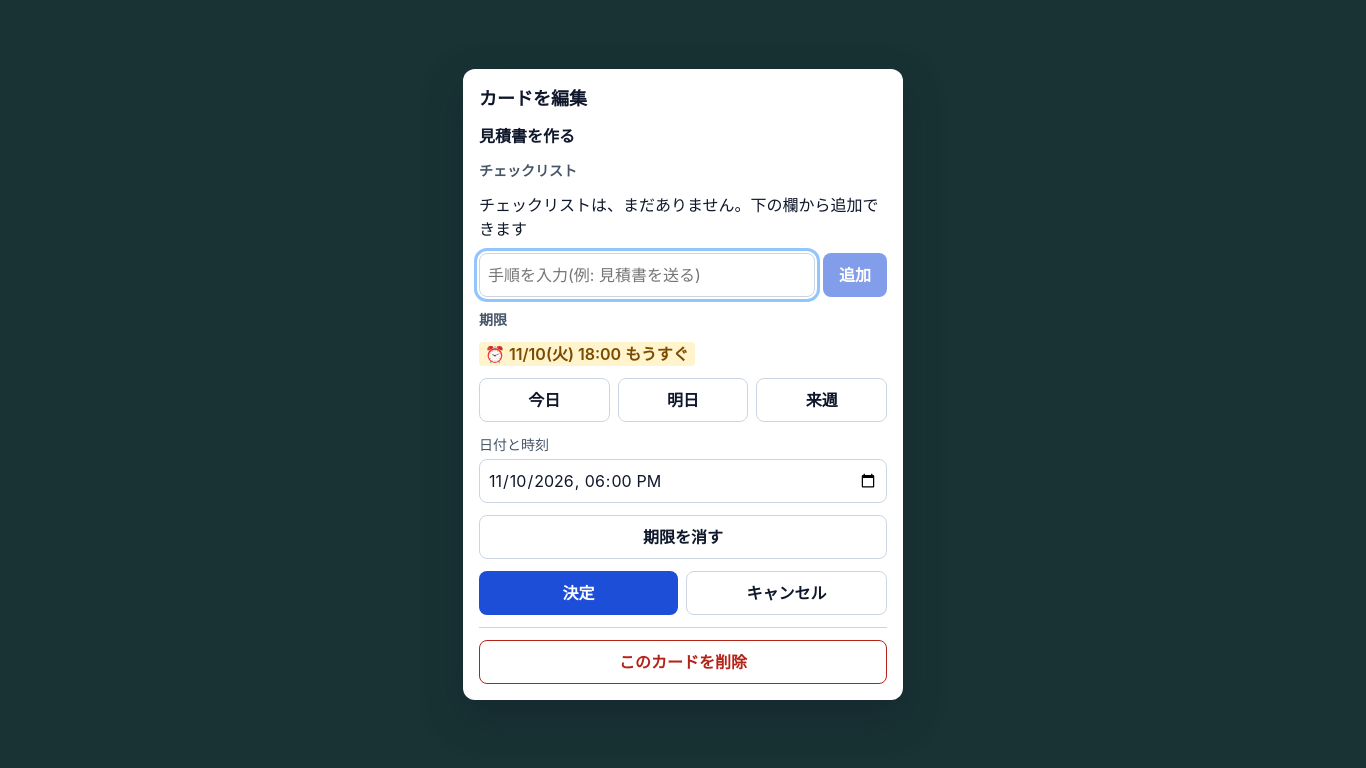
Test: CardEditDialog: 削除 › 「このカードを削除」で、確認が出る。まだ消さない。「元に戻せません」と書いてあり、最初のフォーカスは「やめる」
Click the button "このカードを削除" at (683, 662), box [479,640,887,684]
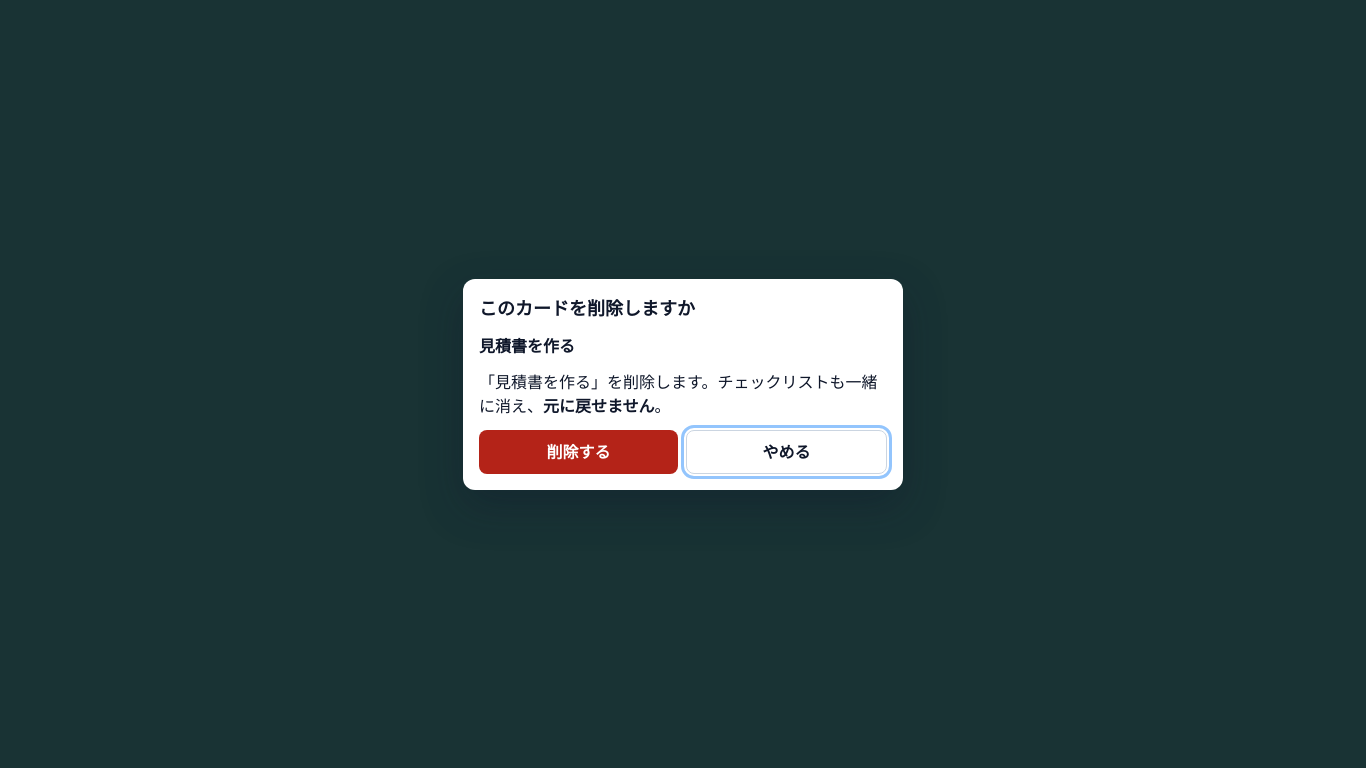
Expected: the dialog "このカードを削除しますか" shows "「見積書を作る」を削除します。チェックリストも一緒に消え、元に戻せません。", [463,278,903,490]
